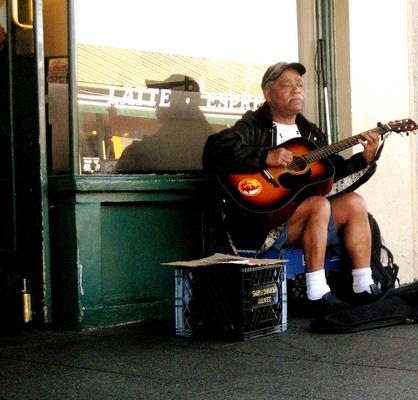person: (203, 64, 387, 316)
